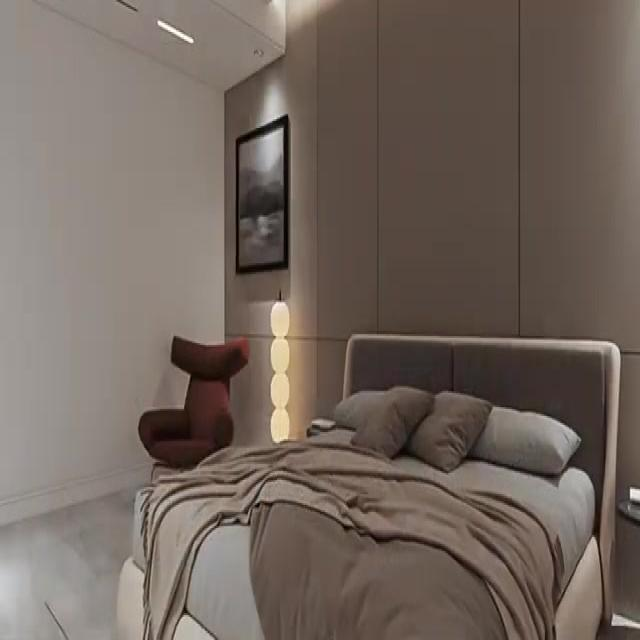obstacle: (116, 332, 621, 638), (137, 334, 249, 484)
